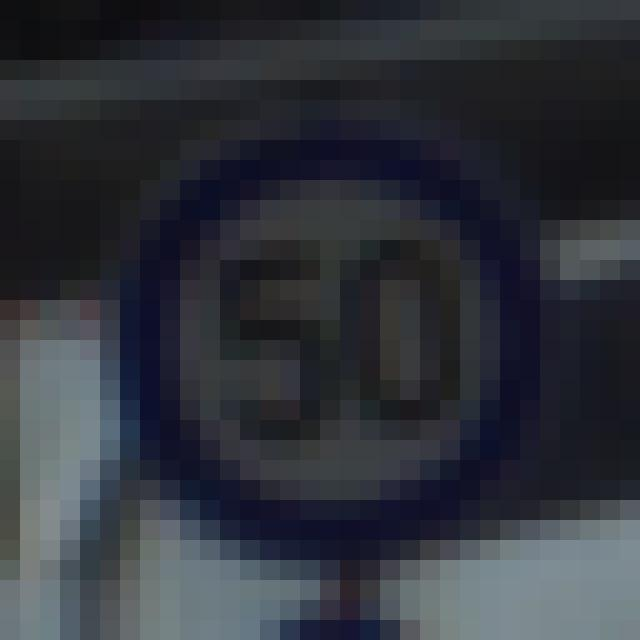SPEED LIMIT 50: (150, 156, 524, 530)
